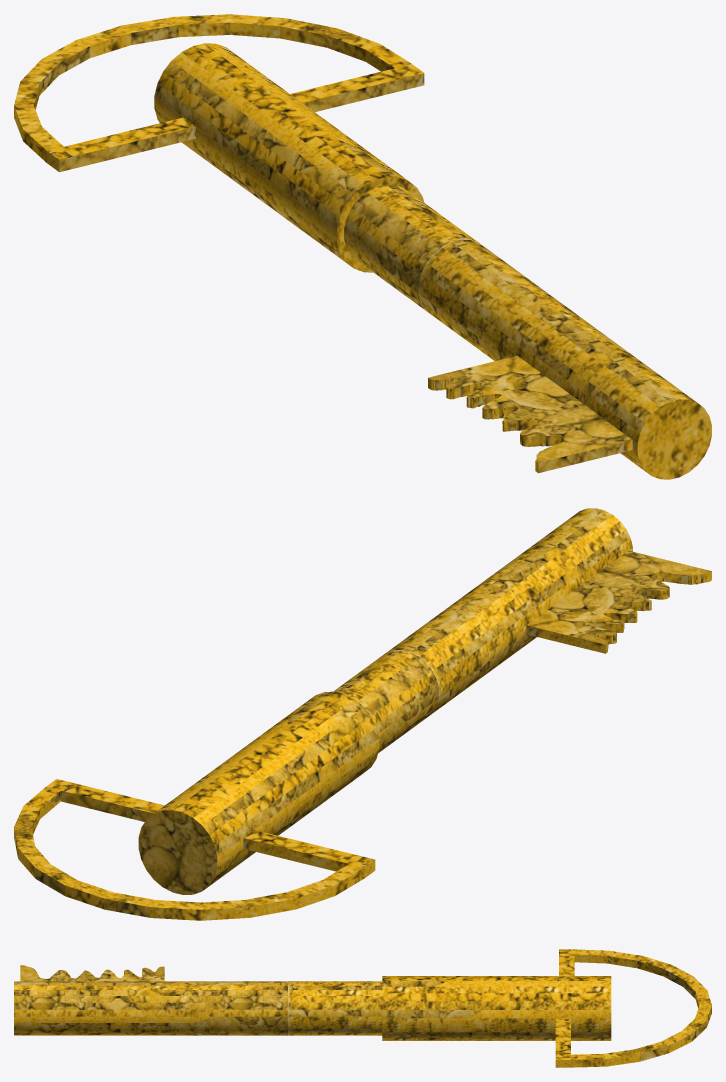
File: key.fbx
3 views of the same model, one above another, from view 1: azimuth 30°, elevation 25°; view 2: azimuth 150°, elevation 25°; view 3: azimuth 270°, elevation 25° (orthographic). The views are drawn at different scales.
Parts seen in each view (by area): view 1: Gold_Key., ID17; view 2: ID17, Gold_Key.; view 3: Gold_Key., ID17.
Boxes of the visible parts, x1,y1,x2,y2 form: Gold_Key.: (344, 184, 711, 479); ID17: (14, 14, 424, 272); ID17: (14, 691, 379, 920); Gold_Key.: (333, 508, 711, 753); Gold_Key.: (14, 965, 382, 1035); ID17: (382, 949, 711, 1067).
Bounding box in the file's own units: 5.3 × 14.1 × 1.3.
Materials: 2 (1 with a texture image).
